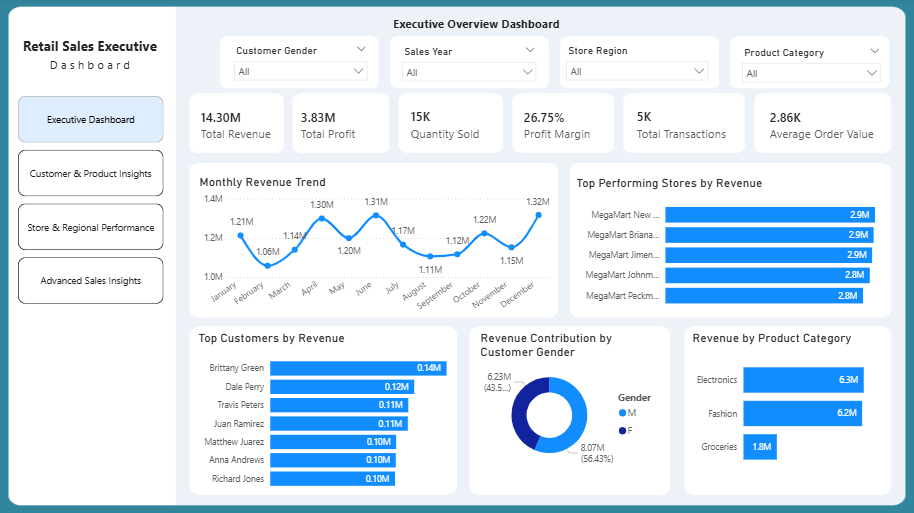

What the dashboard file says about the page in this screenshot:
{"tool":"powerbi","page":{"name":"Executive Dashboard","canvas":[1280,720],"ordinal":0},"visuals":[{"type":"cardVisual","fields":{"Data":["retail_sales_view.Total Revenue"]},"box":[254,137.1,163.3,80.9],"z":0},{"type":"cardVisual","fields":{"Data":["retail_sales_view.Total Profit"]},"box":[393.5,137.1,143.7,80.9],"z":1000},{"type":"cardVisual","fields":{"Data":["retail_sales_view.Quantity Sold"]},"box":[547,134.3,166,83.7],"z":2000},{"type":"cardVisual","fields":{"Data":["retail_sales_view.Profit Margin"]},"box":[704.7,137.1,157.7,80.9],"z":3000},{"type":"cardVisual","fields":{"Data":["retail_sales_view.Total Transactions"]},"box":[862.3,134.3,185.6,83.7],"z":4000},{"type":"cardVisual","fields":{"Data":["retail_sales_view.Average Order Value"]},"box":[1047.9,137.1,206.5,80.9],"z":5000},{"type":"lineChart","title":"Monthly Revenue Trend","fields":{"Category":["retail_sales_view.Date.Variation.Date Hierarchy.Month"],"Y":["retail_sales_view.Total Revenue"]},"box":[276.3,247,498.1,206.5],"z":6000},{"type":"clusteredBarChart","title":"Revenue by Product Category","fields":{"Category":["retail_sales_view.Category"],"Y":["retail_sales_view.Total Revenue"]},"box":[964.2,464.7,290.2,205.1],"z":7000},{"type":"clusteredBarChart","title":"Top Performing Stores by Revenue","fields":{"Category":["retail_sales_view.StoreName"],"Y":["retail_sales_view.Total Revenue"]},"box":[802.9,248.6,463.6,194.9],"z":8000},{"type":"donutChart","title":"Revenue Contribution by Customer Gender","fields":{"Category":["retail_sales_view.Gender"],"Y":["retail_sales_view.Total Revenue"]},"box":[668.4,464.7,267.9,196.7],"z":9000},{"type":"clusteredBarChart","title":"Top Customers by Revenue","fields":{"Category":["retail_sales_view.CustomerName"],"Y":["retail_sales_view.Total Revenue"]},"box":[275.5,465.3,393.1,231.8],"z":10000},{"type":"slicer","fields":{"Values":["retail_sales_view.Date.Variation.Date Hierarchy.Year"]},"box":[553.8,61,207.5,58],"z":11000},{"type":"slicer","fields":{"Values":["retail_sales_view.Category"]},"box":[1028.3,62.6,213.6,62.6],"z":12000},{"type":"slicer","fields":{"Values":["retail_sales_view.Region"]},"box":[782.6,59.5,218.2,67.1],"z":13000},{"type":"slicer","fields":{"Values":["retail_sales_view.Gender"]},"box":[318.9,59.5,206,62.6],"z":14000},{"type":"textbox","box":[17.3,49,223.2,72],"z":15000},{"type":"textbox","box":[527.9,19.8,280.7,39.7],"z":16000},{"type":"pageNavigator","box":[27.4,136.8,203,293.8],"z":17000}]}

Visuals, with their boxes in screenshot pixels (x1, y1, x2, y2), scaled from the page's 1280x720 canvas onto the 914x513 screenshot:
cardVisual - retail_sales_view.Total Revenue: box=[181, 98, 298, 155]
cardVisual - retail_sales_view.Total Profit: box=[281, 98, 384, 155]
cardVisual - retail_sales_view.Quantity Sold: box=[391, 96, 509, 155]
cardVisual - retail_sales_view.Profit Margin: box=[503, 98, 616, 155]
cardVisual - retail_sales_view.Total Transactions: box=[616, 96, 748, 155]
cardVisual - retail_sales_view.Average Order Value: box=[748, 98, 896, 155]
"Monthly Revenue Trend" lineChart: box=[197, 176, 553, 323]
"Revenue by Product Category" clusteredBarChart: box=[688, 331, 896, 477]
"Top Performing Stores by Revenue" clusteredBarChart: box=[573, 177, 904, 316]
"Revenue Contribution by Customer Gender" donutChart: box=[477, 331, 669, 471]
"Top Customers by Revenue" clusteredBarChart: box=[197, 332, 477, 497]
slicer - retail_sales_view.Date.Variation.Date Hierarchy.Year: box=[395, 43, 544, 85]
slicer - retail_sales_view.Category: box=[734, 45, 887, 89]
slicer - retail_sales_view.Region: box=[559, 42, 715, 90]
slicer - retail_sales_view.Gender: box=[228, 42, 375, 87]
textbox: box=[12, 35, 172, 86]
textbox: box=[377, 14, 577, 42]
pageNavigator: box=[20, 97, 165, 307]
